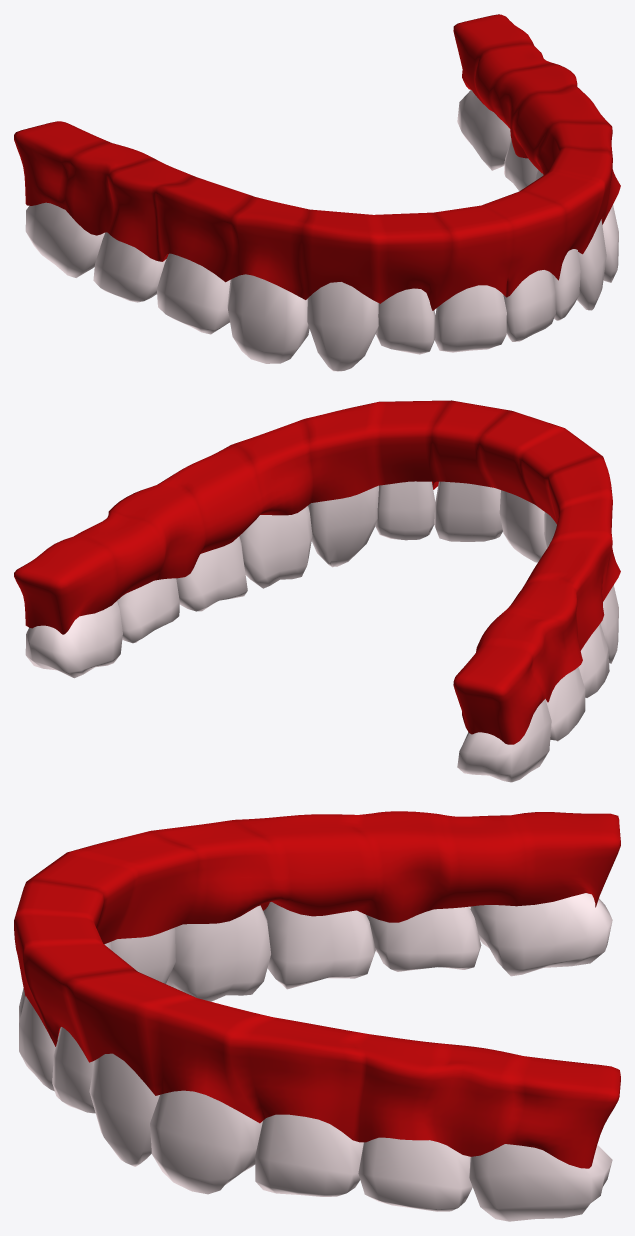
The model's file is teeth_2.glb.
3 renders of one model, top to bottom at view 1: azimuth 30°, elevation 25°; view 2: azimuth 150°, elevation 25°; view 3: azimuth 270°, elevation 25°, orthographic. The views are drawn at different scales.
Visible parts, largest first — view 1: UpperJaw; view 2: UpperJaw; view 3: UpperJaw.
Part boxes in pixels (x1,y1,x2,y2): UpperJaw: [14, 14, 620, 371]; UpperJaw: [14, 400, 620, 782]; UpperJaw: [14, 811, 620, 1221].
Bounding box in the file's own units: 1.94 × 0.5737 × 1.74.
